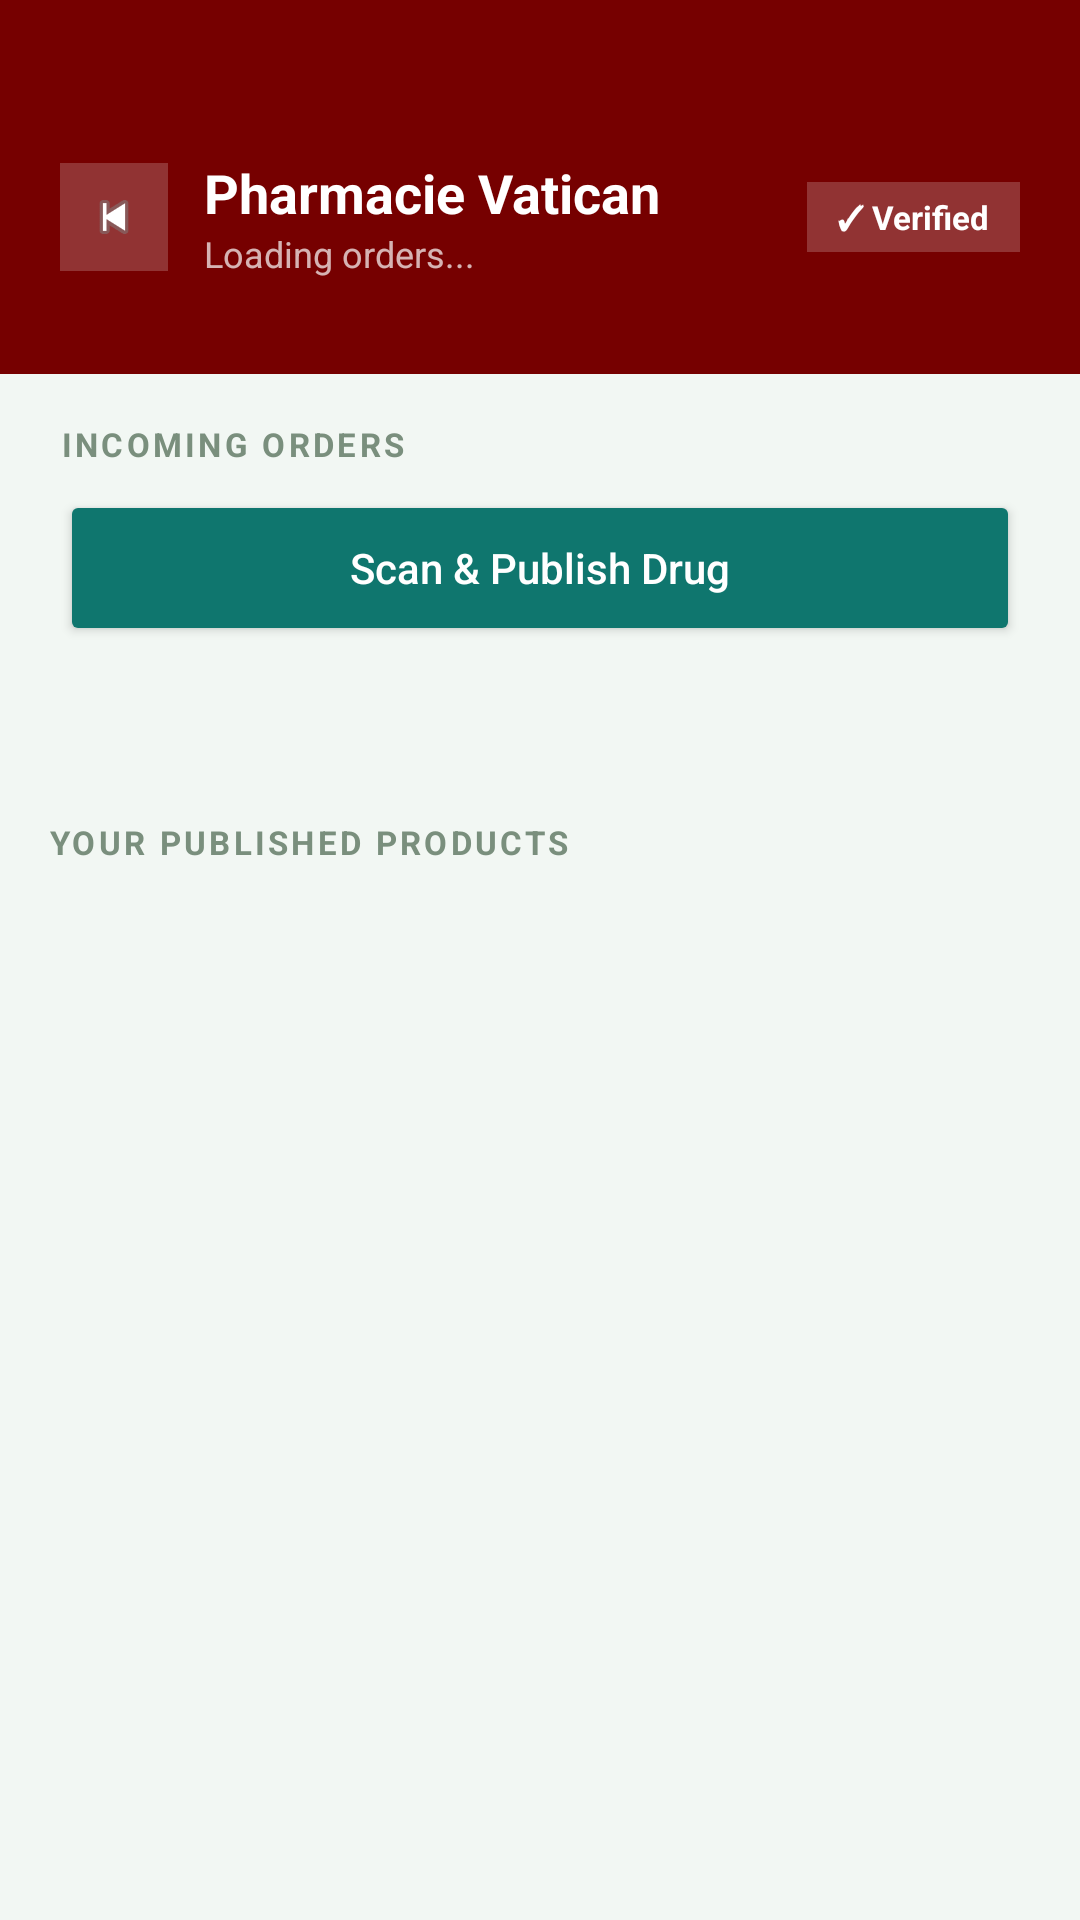

Point at icon controls on the screen. Image size 1080x1920, points as (x,y).
previous: (114,217)
